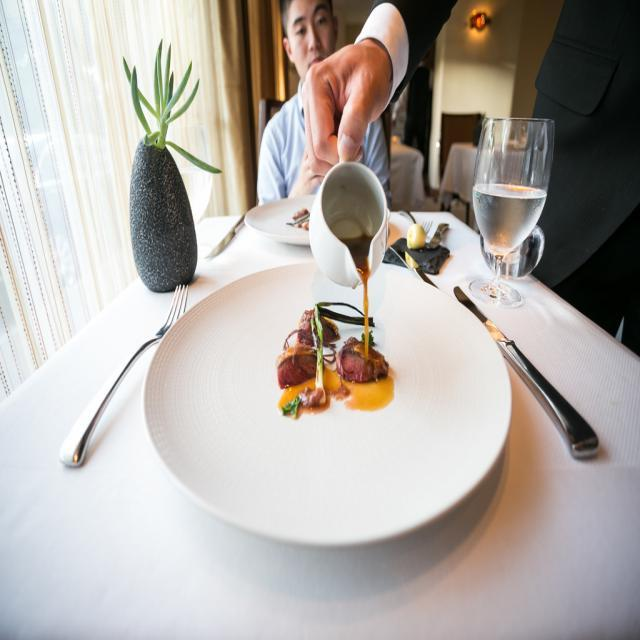ceramic plate: (138, 252, 509, 544)
